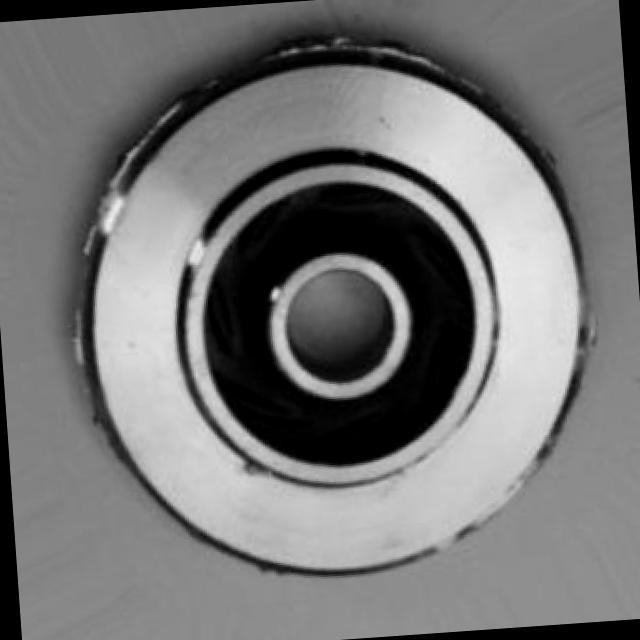Defect: (319, 17, 446, 84)
